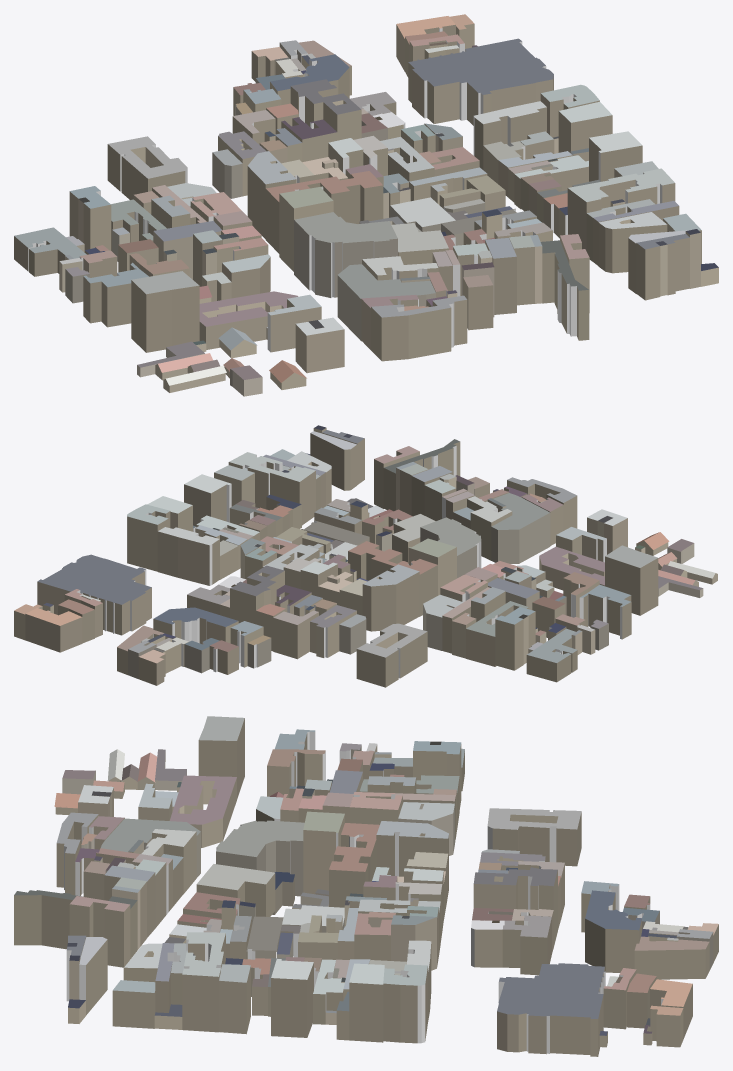
The picture shows the model from 3 angles, top to bottom: view 1: azimuth 30°, elevation 25°; view 2: azimuth 150°, elevation 25°; view 3: azimuth 270°, elevation 25°; orthographic projection. The views are drawn at different scales.
Visible parts, largest first — view 1: tuile; view 2: tuile; view 3: tuile.
Boxes of the visible parts, x1,y1,x2,y2 form: tuile: [14, 14, 718, 396]; tuile: [14, 425, 717, 687]; tuile: [14, 716, 718, 1056].
Bounding box in the file's own units: 265 × 28.67 × 270.
